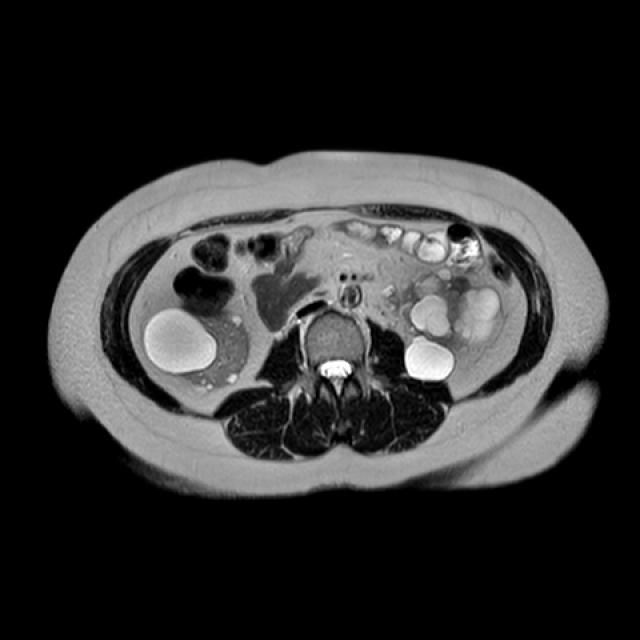sag: (142, 307, 250, 390)
sol: (399, 266, 501, 382)
